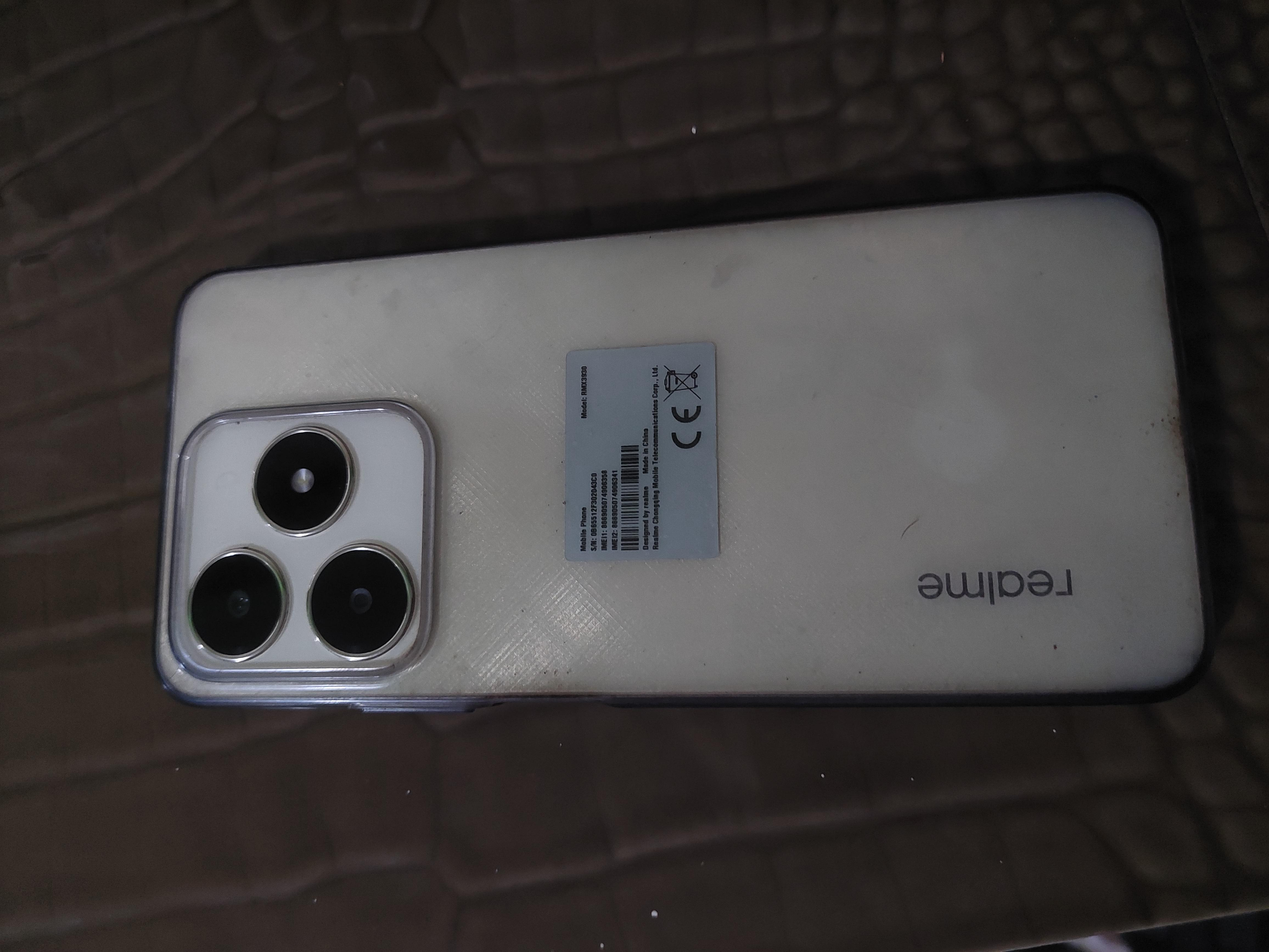smartphone: (152, 188, 1211, 710)
